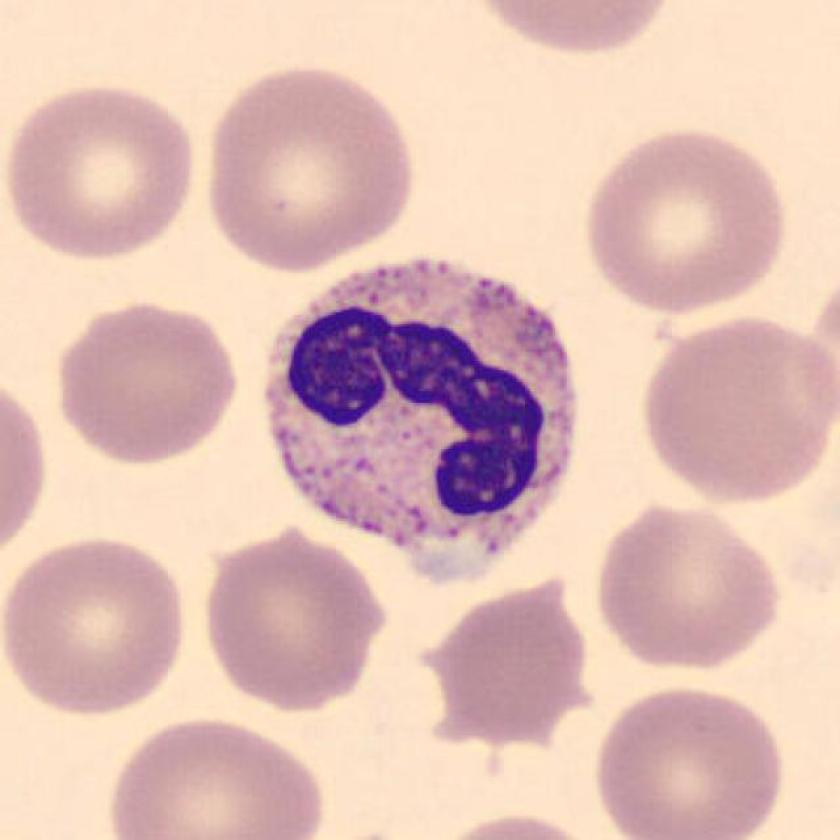neutrophil: (269, 258, 577, 584)
